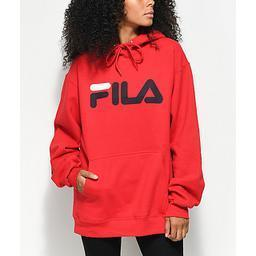sweater: (50, 30, 204, 238)
